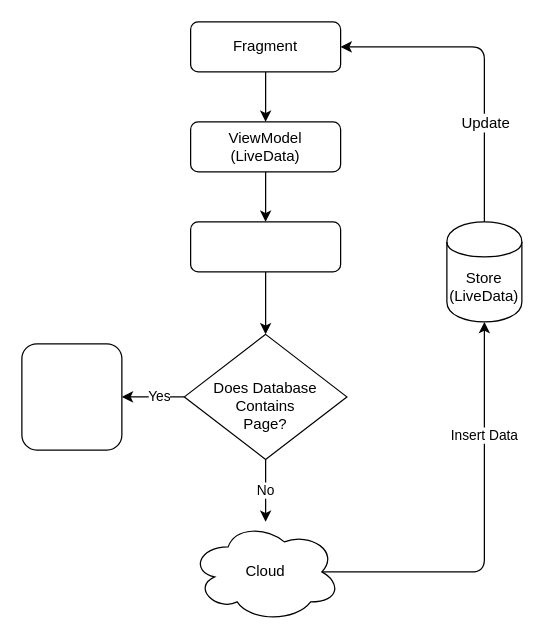
This 544x644 diagram has some shape labels left out. Each missing label, with the box of its shape:
Do Nothing (Because Database is bind to the List): (21, 342, 122, 450)
Repository: (189, 221, 341, 272)
